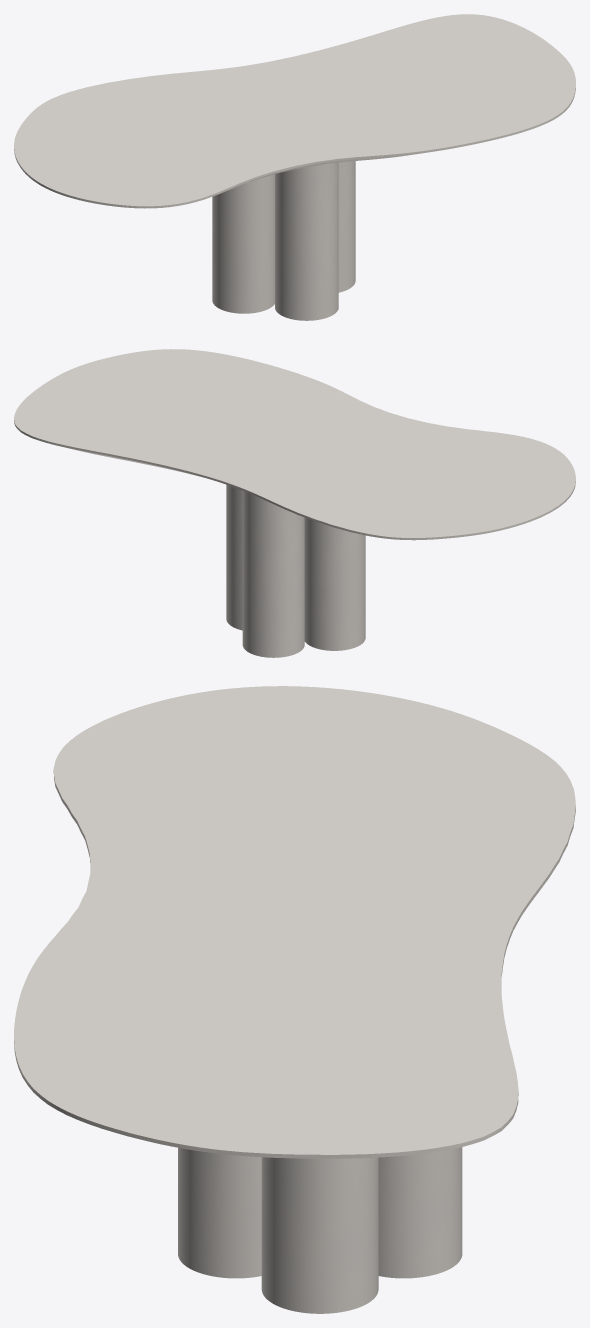
The model's file is pearlwhite_wave_facet_secondtable.glb.
The picture shows the model from 3 angles, top to bottom: view 1: azimuth 30°, elevation 25°; view 2: azimuth 150°, elevation 25°; view 3: azimuth 270°, elevation 25°; orthographic projection. The views are drawn at different scales.
Parts seen in each view (by area): view 1: facet_wave, secondtable; view 2: facet_wave, secondtable; view 3: facet_wave, secondtable.
Part boxes in pixels (box(x1,y1,x2,y2)): facet_wave: box(14, 14, 575, 208); secondtable: box(212, 161, 355, 320); facet_wave: box(14, 349, 575, 540); secondtable: box(226, 484, 365, 657); facet_wave: box(14, 686, 575, 1158); secondtable: box(178, 1147, 462, 1313).
Size of the model in its own units: 7.5 by 2.5 by 3.8.
1 material, 1 textured.
